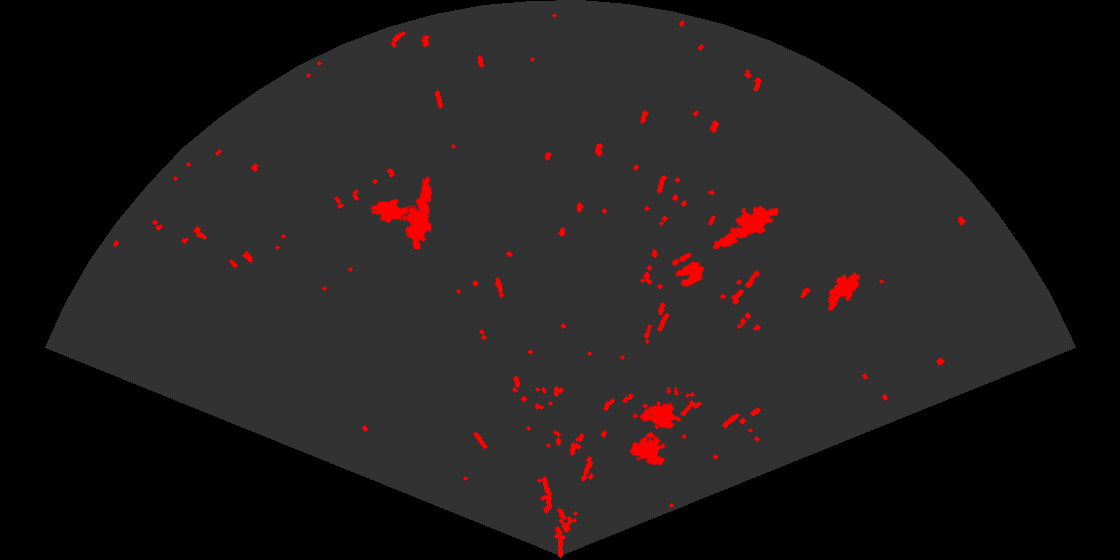AUV: (826, 271, 862, 313), (369, 198, 419, 225)
ball: (670, 251, 706, 289)
cage: (628, 387, 686, 468)
frogman: (711, 204, 778, 251), (400, 175, 434, 249)
